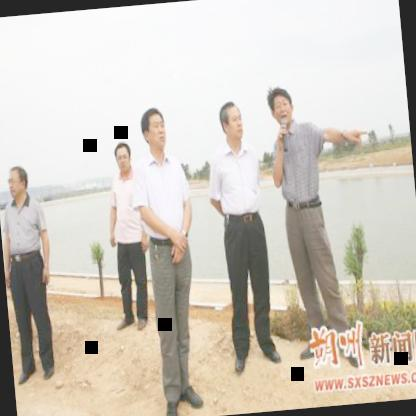head: (138, 102, 172, 157), (214, 95, 248, 149), (264, 82, 298, 130), (5, 159, 32, 206), (110, 136, 136, 184)
